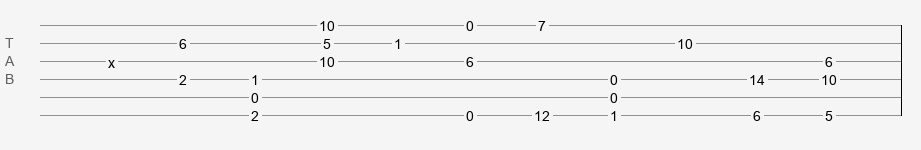0: (251, 90, 259, 100), (466, 18, 474, 28), (466, 108, 474, 118), (610, 90, 618, 100), (610, 72, 618, 82)
1: (251, 72, 259, 82), (394, 36, 402, 46), (610, 108, 618, 118)
10: (319, 18, 335, 28), (319, 54, 335, 64), (677, 36, 693, 46), (821, 72, 837, 82)
12: (534, 108, 550, 118)
14: (749, 72, 765, 82)
2: (179, 72, 187, 82), (251, 108, 259, 118)
5: (323, 36, 331, 46), (825, 108, 833, 118)
6: (179, 36, 187, 46), (466, 54, 474, 64), (753, 108, 761, 118), (825, 54, 833, 64)
7: (538, 18, 546, 28)
x: (108, 55, 115, 63)
